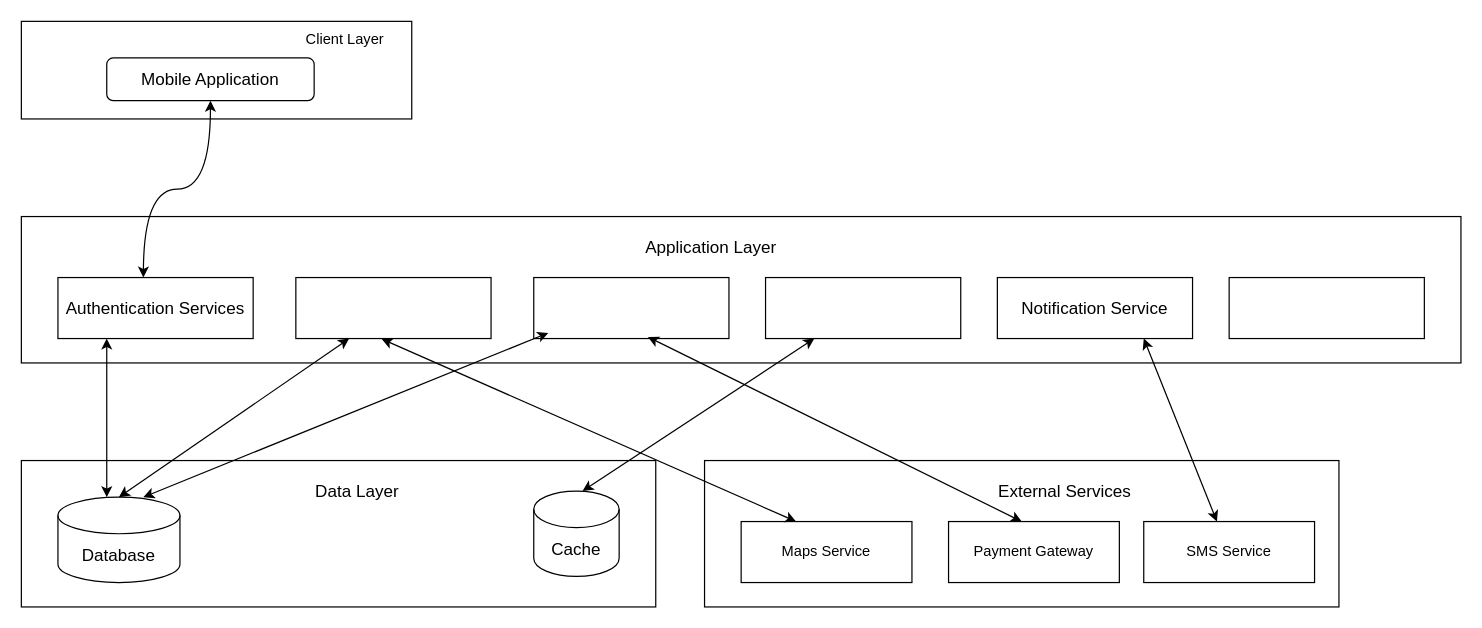
Image size: 1482x628. Some labels were removed from this diagram. Each missing label, with the box of its shape:
Booking Services: (295, 276, 491, 339)
Messaging Service: (1228, 276, 1424, 339)
Payment Services: (533, 276, 729, 339)
Tracking Services: (764, 276, 961, 339)
